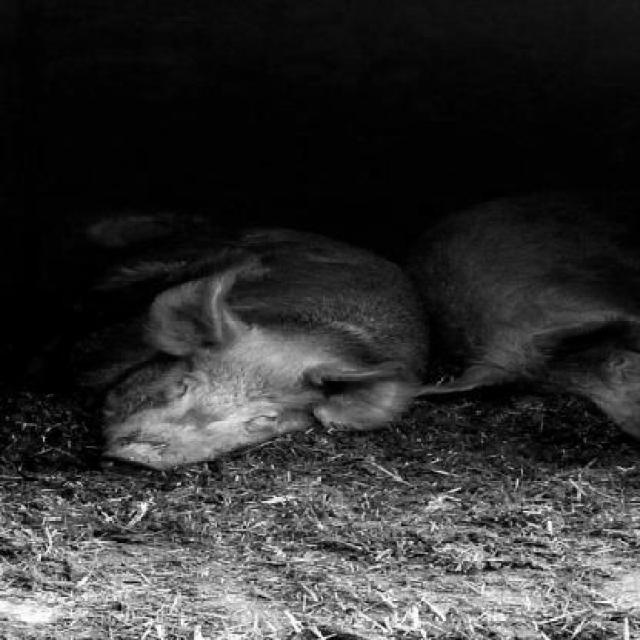Boar: (64, 228, 436, 477), (415, 188, 640, 438)
